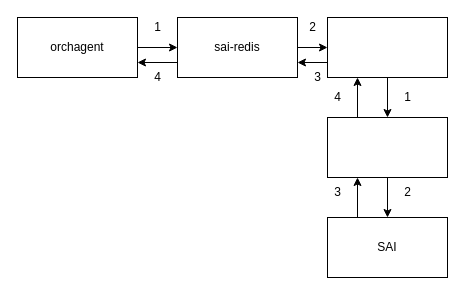
Image size: 465x295. Some labels were removed from this diagram. Here are the shapes that lost their labels. From the top down, the centre of each, then its label:
At point 387,47: "ASIC_DB".
At point 387,147: "syncd".
